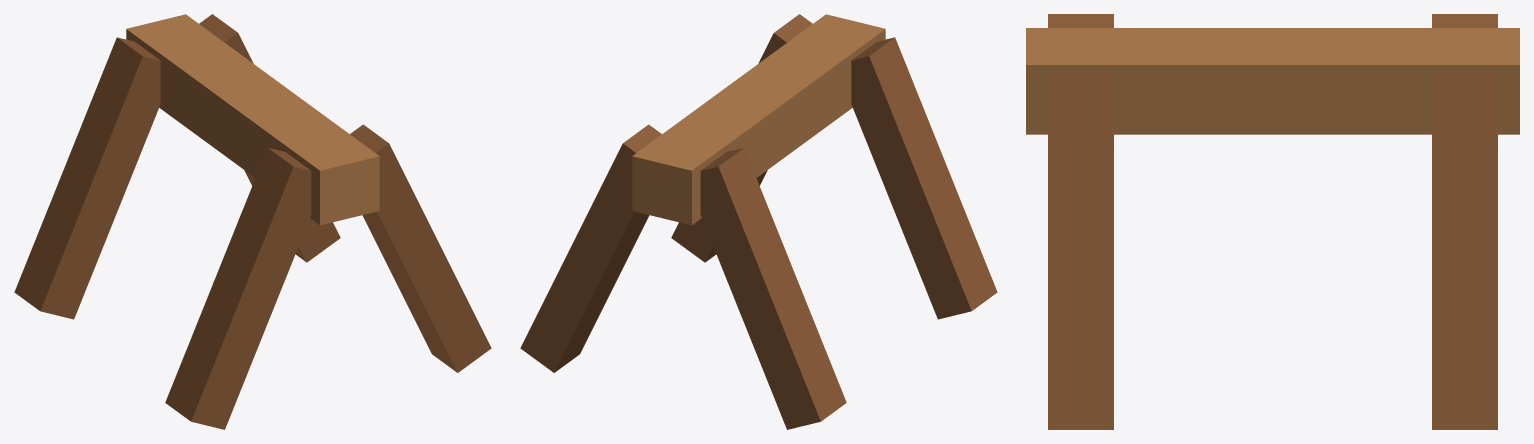
File: sawbuck.glb
3 views of the same model, side by side, from view 1: azimuth 30°, elevation 25°; view 2: azimuth 150°, elevation 25°; view 3: azimuth 270°, elevation 25° (orthographic). The views are drawn at different scales.
Visible parts, largest first — view 1: Auflage, Bockbein, Bockbein.002, Bockbein.001, Bockbein.003; view 2: Auflage, Bockbein.002, Bockbein, Bockbein.003, Bockbein.001; view 3: Auflage, Bockbein.001, Bockbein.003, Bockbein, Bockbein.002.
Part boxes in pixels (left/top/right/bottom): Auflage: left=126, top=14, right=379, bottom=225; Bockbein: left=165, top=148, right=311, bottom=429; Bockbein.002: left=14, top=37, right=160, bottom=319; Bockbein.001: left=350, top=124, right=491, bottom=372; Bockbein.003: left=199, top=14, right=340, bottom=262; Auflage: left=632, top=14, right=885, bottom=225; Bockbein.002: left=700, top=148, right=846, bottom=429; Bockbein: left=851, top=37, right=997, bottom=319; Bockbein.003: left=520, top=124, right=661, bottom=372; Bockbein.001: left=671, top=14, right=812, bottom=262; Auflage: left=1026, top=28, right=1519, bottom=134; Bockbein.001: left=1048, top=73, right=1113, bottom=429; Bockbein.003: left=1432, top=73, right=1497, bottom=429; Bockbein: left=1048, top=14, right=1113, bottom=27; Bockbein.002: left=1432, top=14, right=1497, bottom=27.
Size of the model in its own units: 0.8053 by 0.6314 by 0.9.
